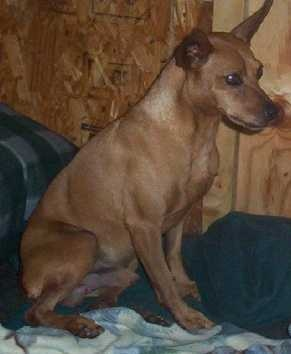dog: (38, 11, 291, 320)
